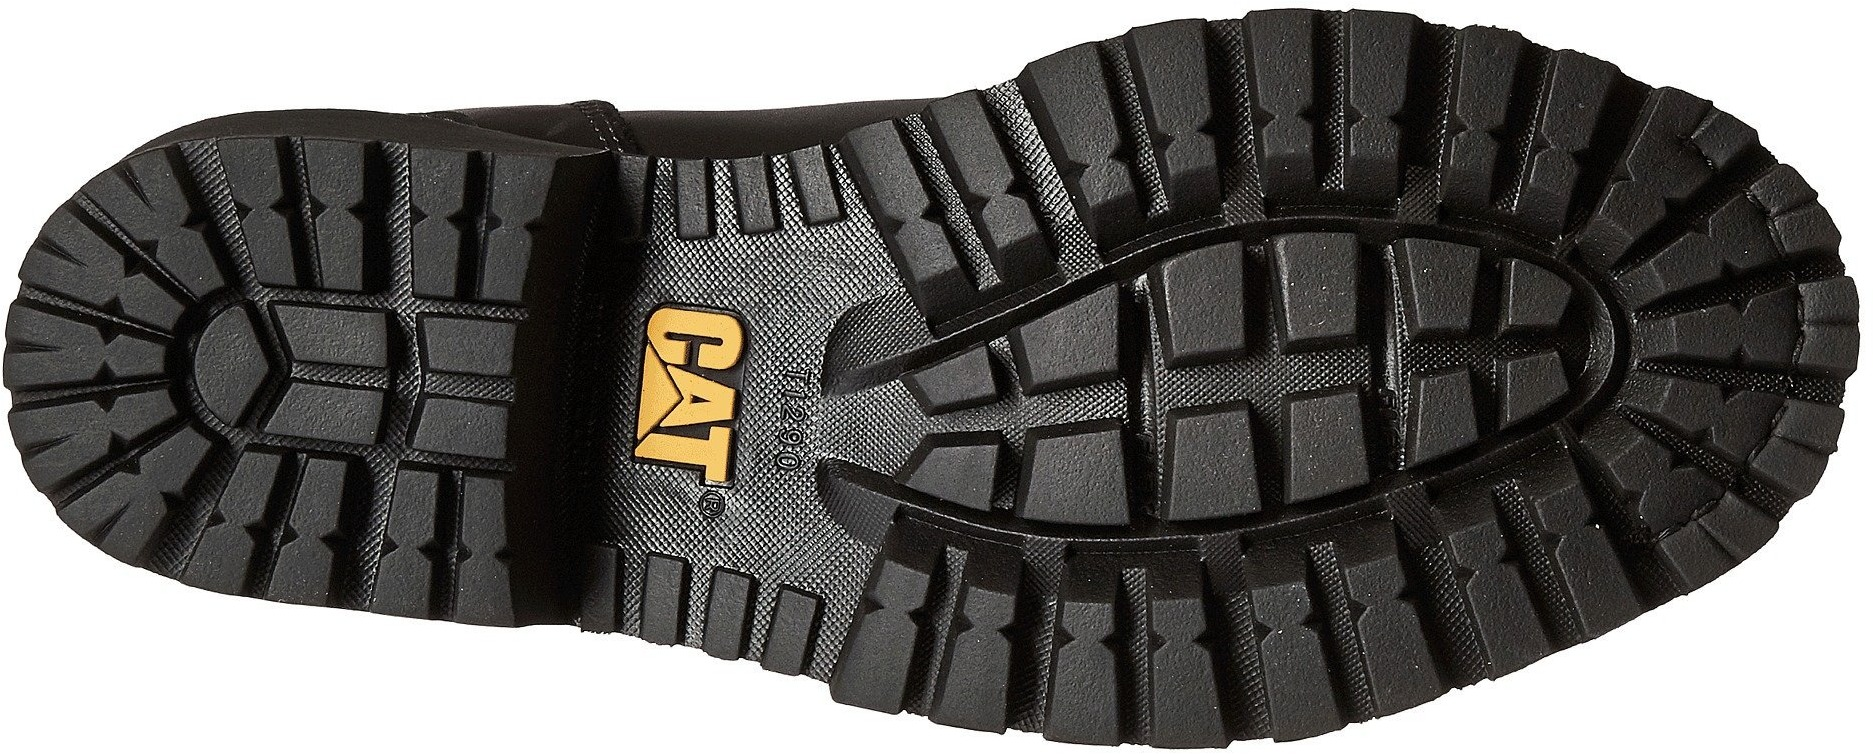bowtie: (884, 528, 1114, 741), (1638, 215, 1857, 421), (1246, 523, 1439, 727), (1189, 11, 1394, 194), (8, 246, 188, 431)
quad: (1026, 280, 1261, 511), (1290, 256, 1488, 471), (306, 295, 501, 468)
